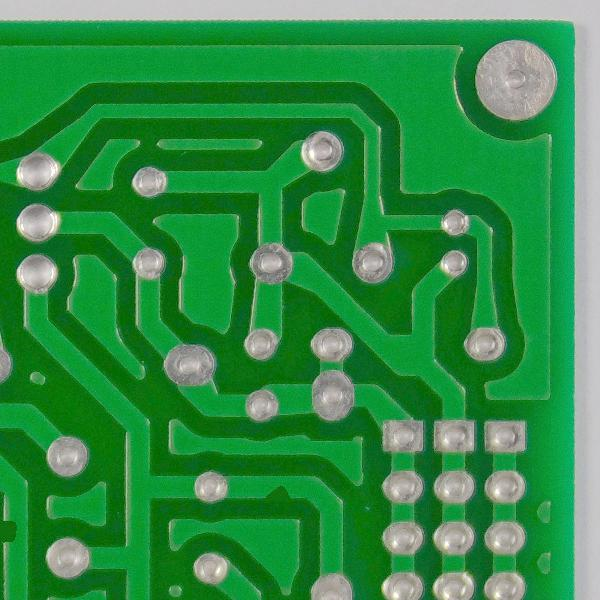mouse_bite: (250, 468, 298, 506), (1, 514, 32, 551)
